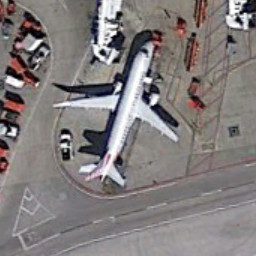Airplane: (47, 29, 186, 198)
